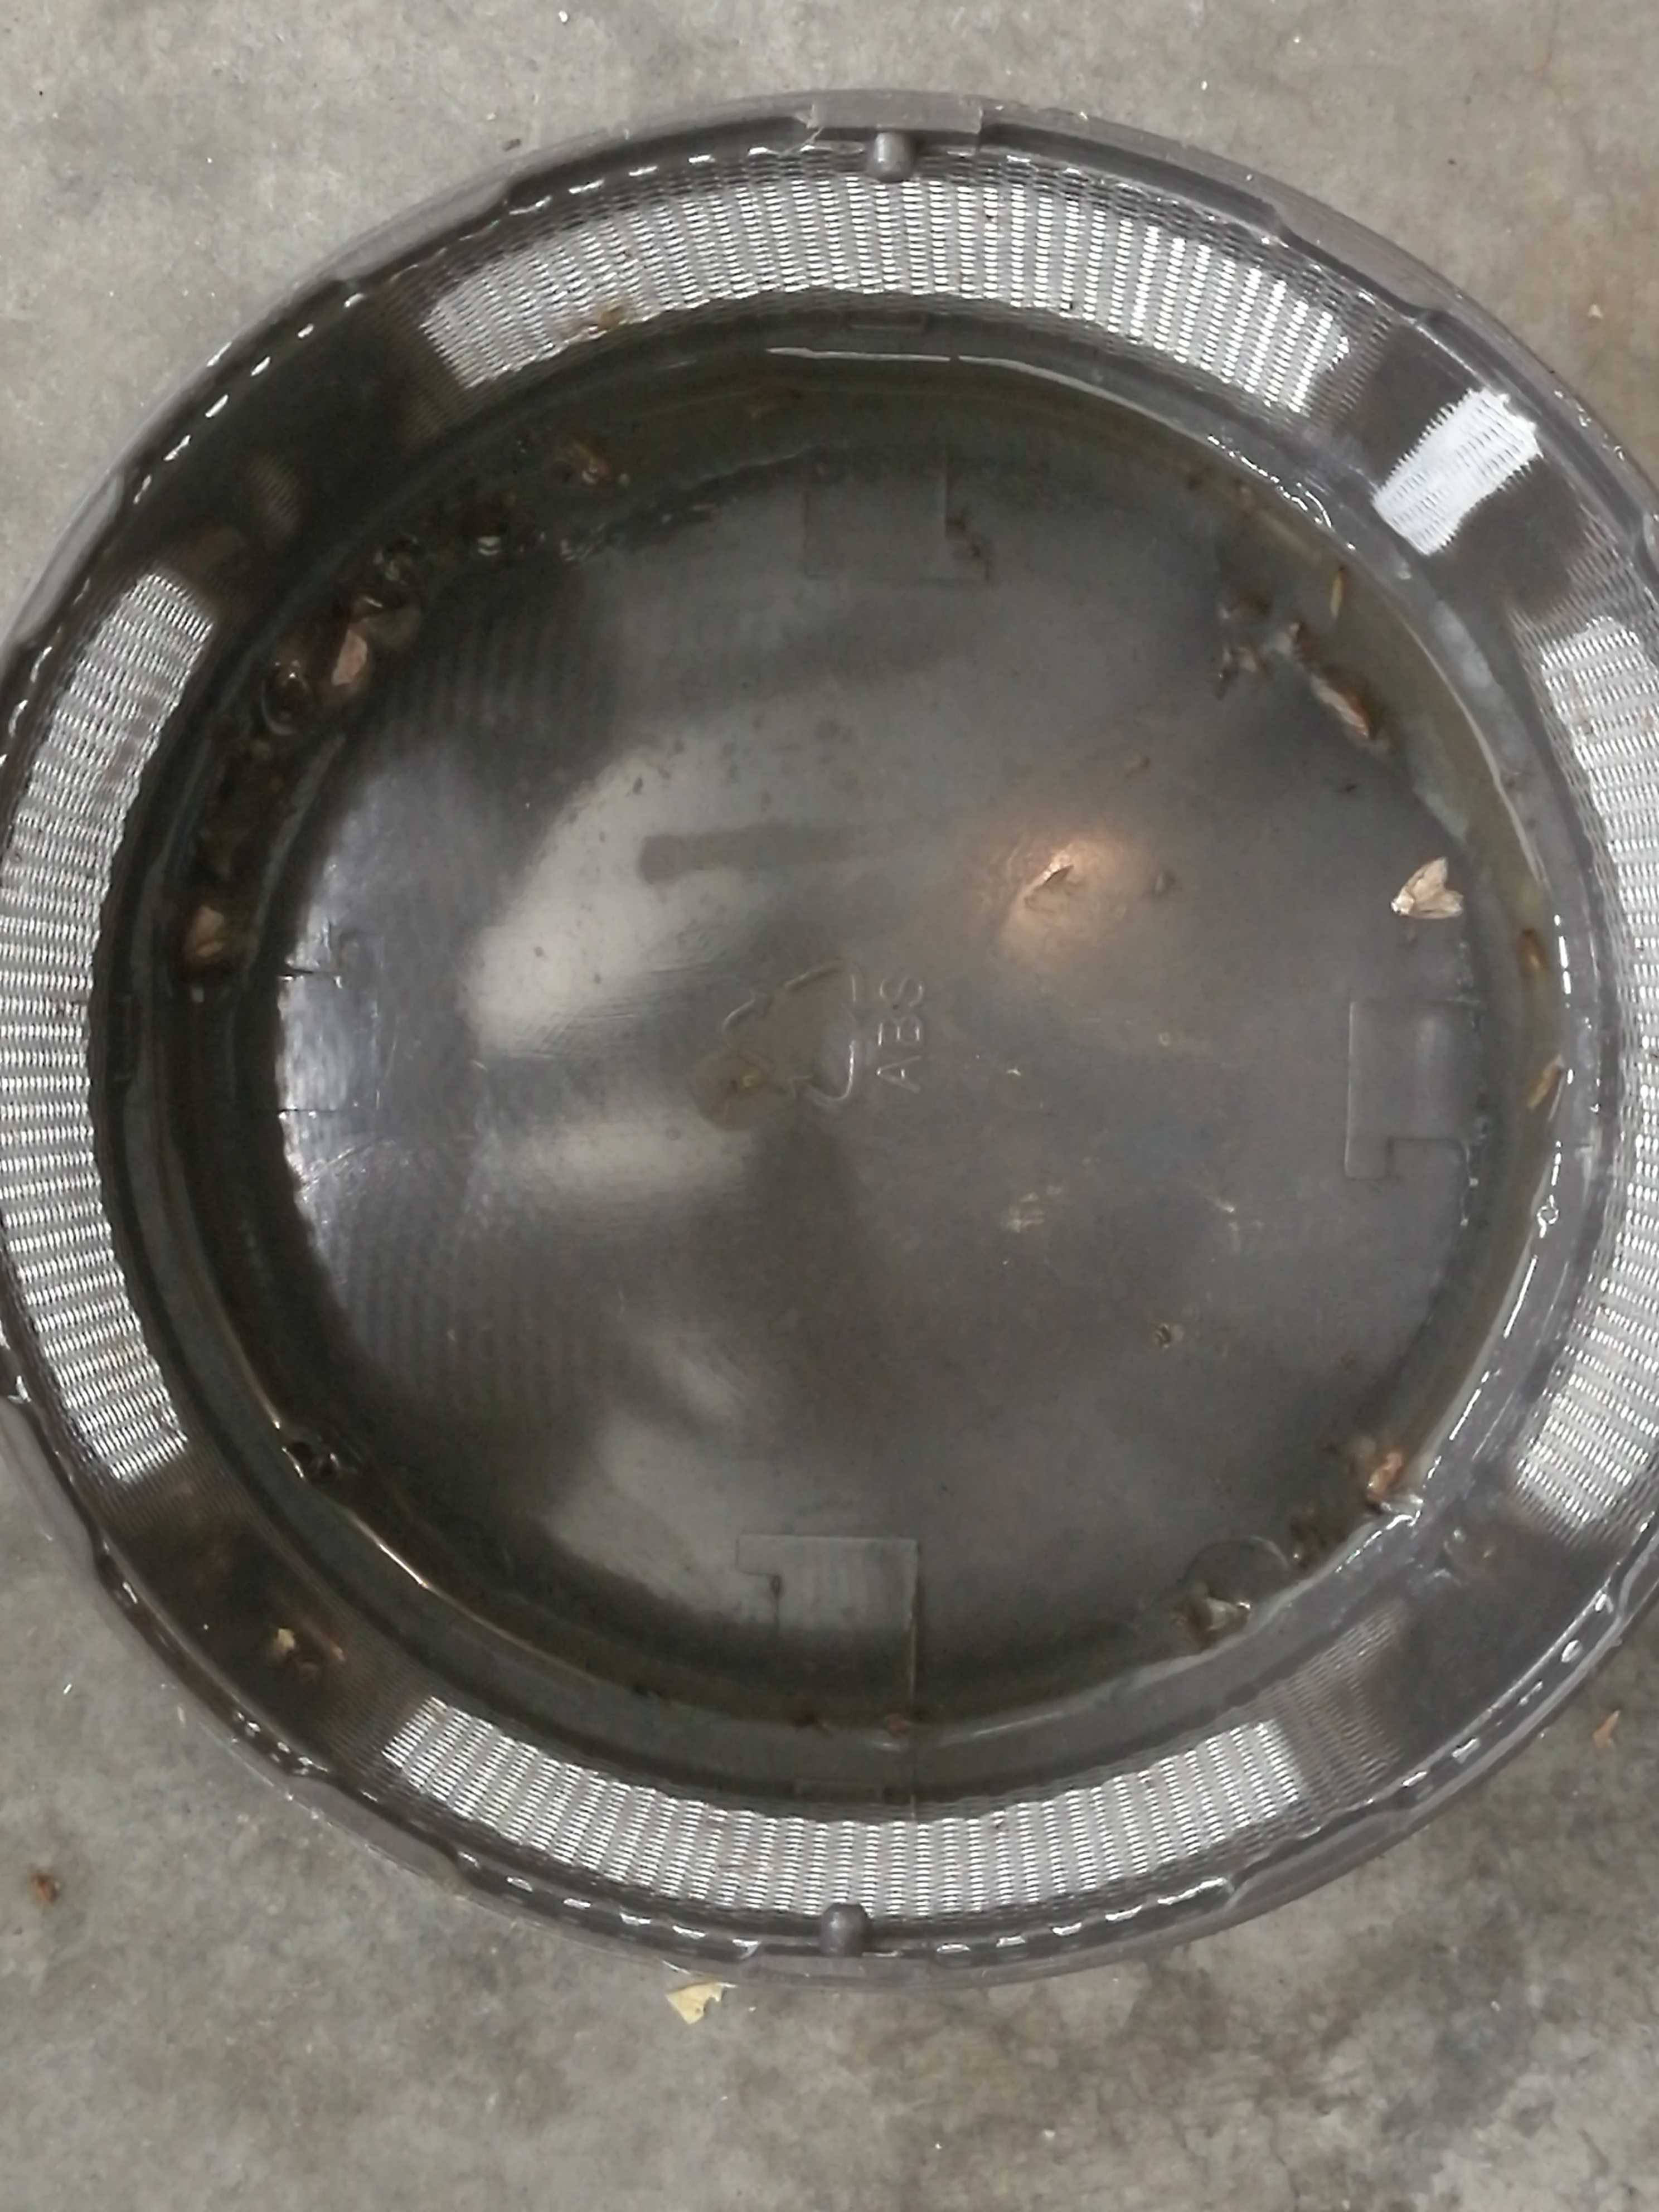moth: (335, 596, 420, 686), (1391, 857, 1460, 918)
